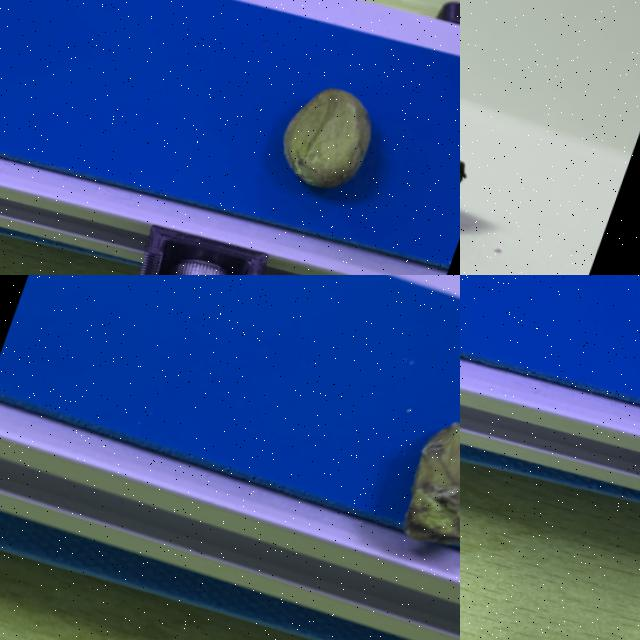Fine_cocoabeans: (175, 21, 459, 259), (460, 0, 597, 274)
Flat_cocoabeans: (266, 358, 459, 617)
